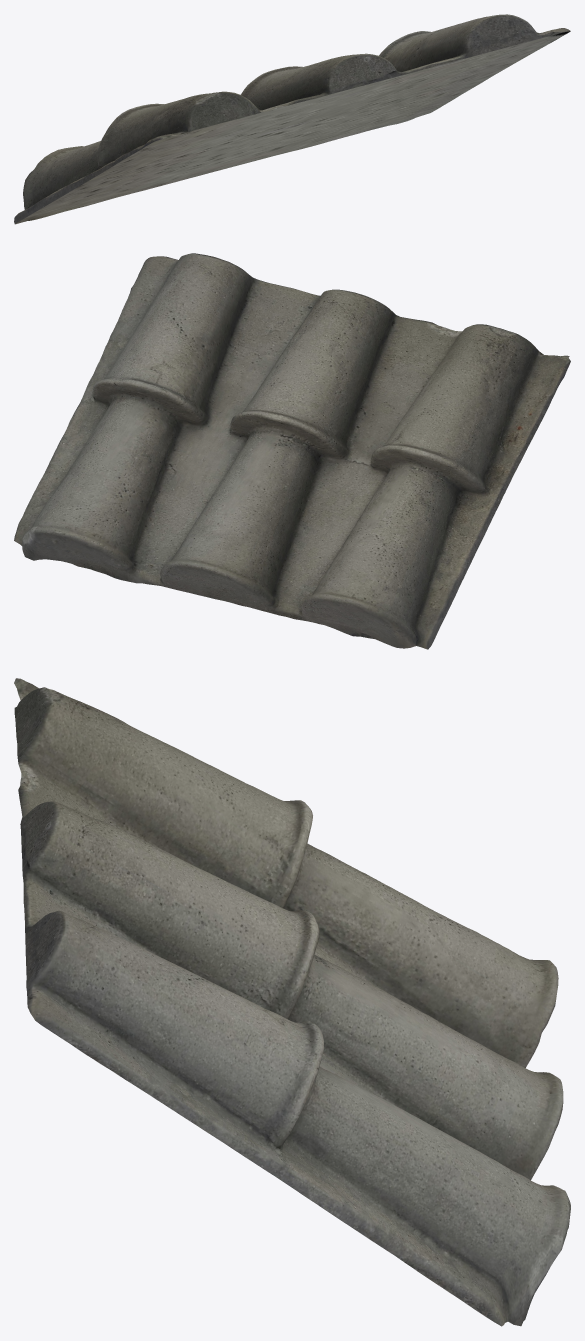
Rendered from Retopo_3DModel_mesh.050.glb.
3 renders of one model, top to bottom at view 1: azimuth 30°, elevation 25°; view 2: azimuth 150°, elevation 25°; view 3: azimuth 270°, elevation 25°, orthographic. The views are drawn at different scales.
Visible parts, largest first — view 1: Retopo_3DModel_mesh.050; view 2: Retopo_3DModel_mesh.050; view 3: Retopo_3DModel_mesh.050.
Part boxes in pixels (bbox=[...]): Retopo_3DModel_mesh.050: bbox=[14, 14, 570, 224]; Retopo_3DModel_mesh.050: bbox=[14, 253, 570, 649]; Retopo_3DModel_mesh.050: bbox=[14, 678, 570, 1326].
Size of the model in its own units: 4.88 by 2.42 by 3.3.
1 material, 1 textured.
